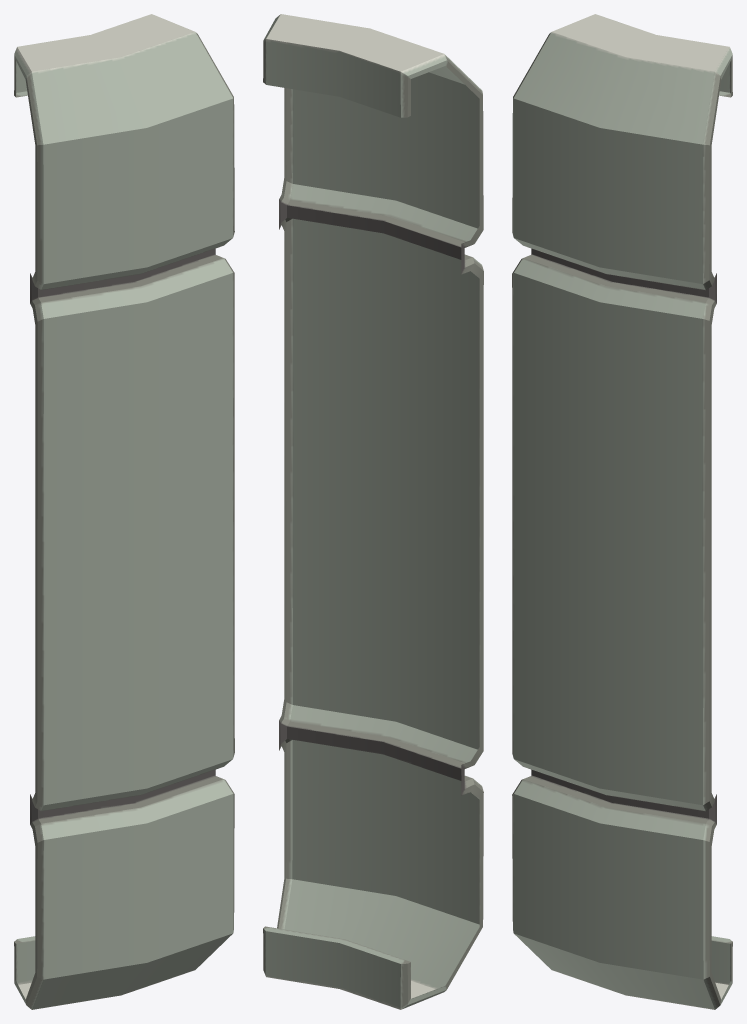
The model's file is barrelPartA.fbx.
3 renders of one model, left to right at view 1: azimuth 30°, elevation 25°; view 2: azimuth 150°, elevation 25°; view 3: azimuth 330°, elevation 25°, orthographic.
Visible parts, largest first — view 1: barrelPartA; view 2: barrelPartA; view 3: barrelPartA.
Boxes of the visible parts, box(x1,y1,x2,y2) form: barrelPartA: box(14, 14, 234, 1009); barrelPartA: box(263, 14, 483, 1009); barrelPartA: box(512, 14, 732, 1009).
Size of the model in its own units: 44.89 by 204 by 24.71.
